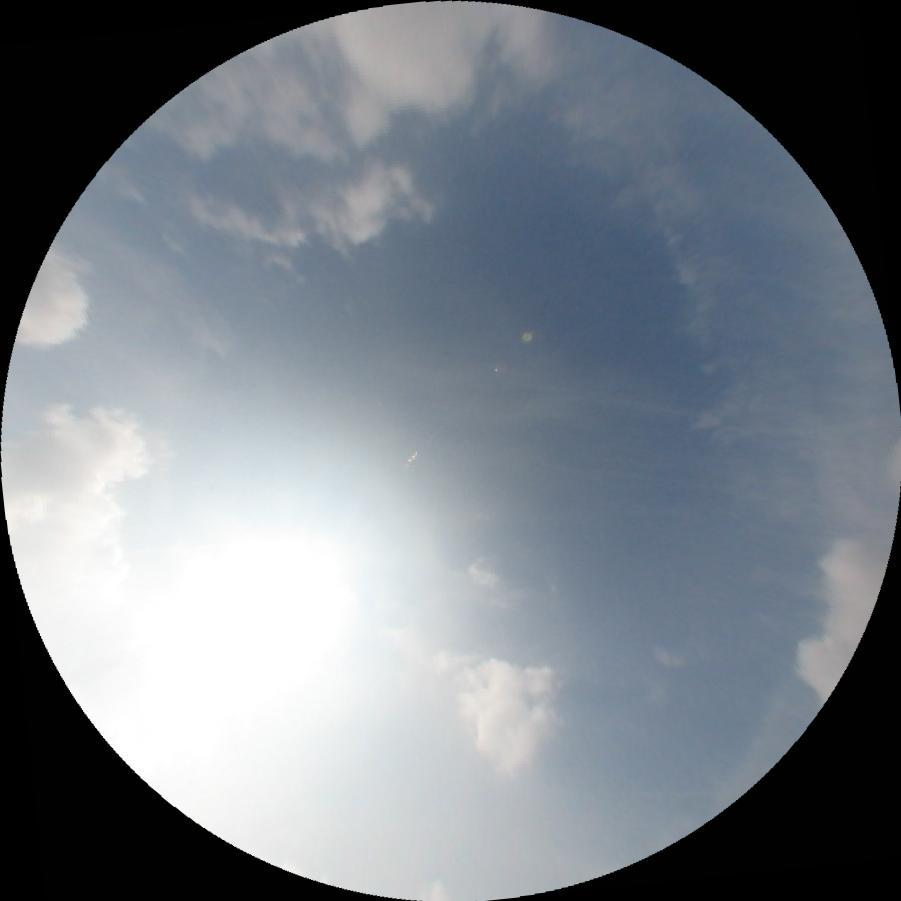sun: (154, 529, 358, 696)
